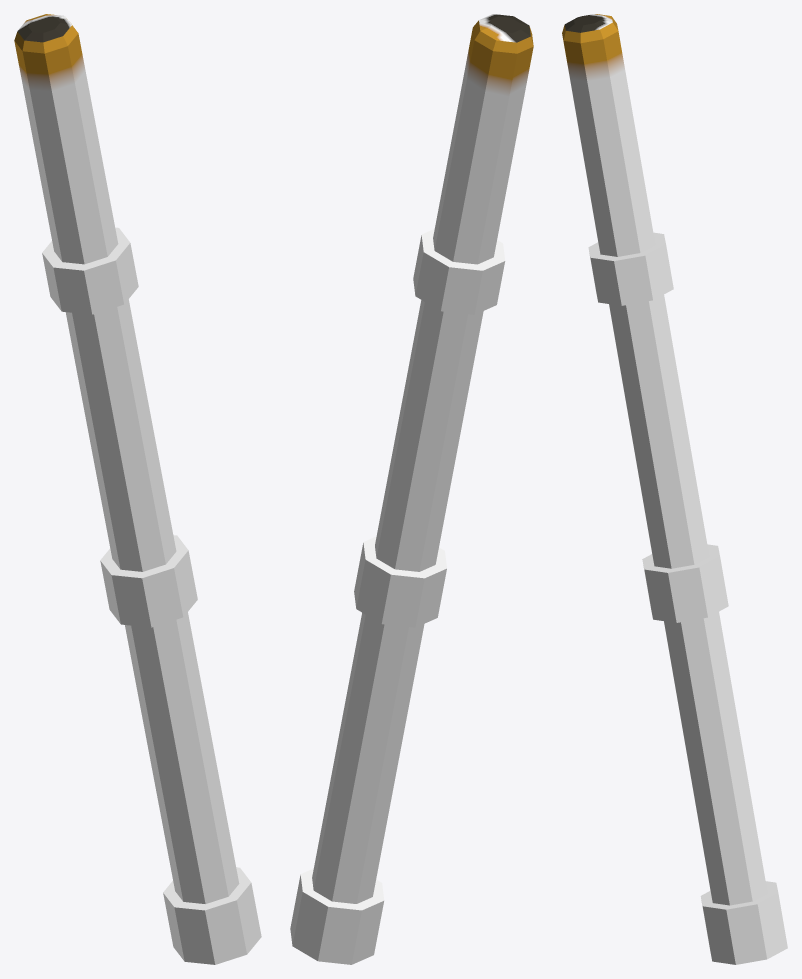
Rendered from tiang_banner.obj.
3 views of the same model, side by side, from view 1: azimuth 30°, elevation 25°; view 2: azimuth 150°, elevation 25°; view 3: azimuth 330°, elevation 25° (orthographic). The views are drawn at different scales.
Parts seen in each view (by area): view 1: StallMesh; view 2: StallMesh; view 3: StallMesh.
Boxes of the visible parts, x1,y1,x2,y2 form: StallMesh: (14,14,261,964); StallMesh: (290,14,533,964); StallMesh: (562,14,787,964).
Size of the model in its own units: 0.0236 by 0.0929 by 0.00762.
